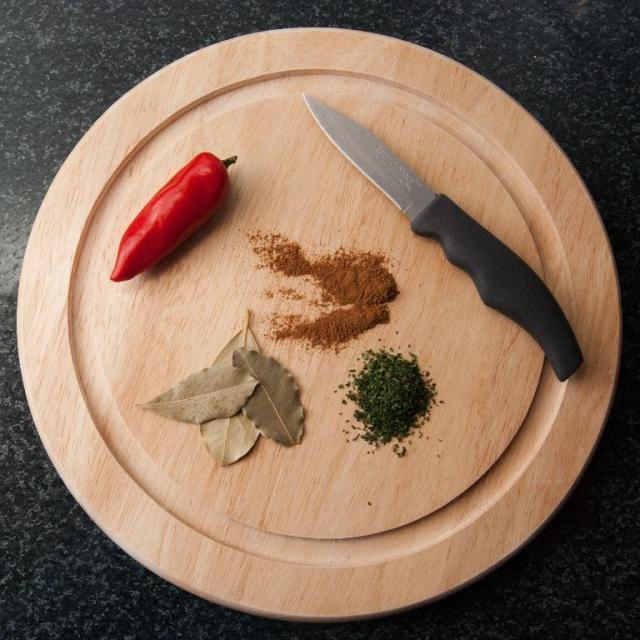Knife: (305, 95, 582, 380)
